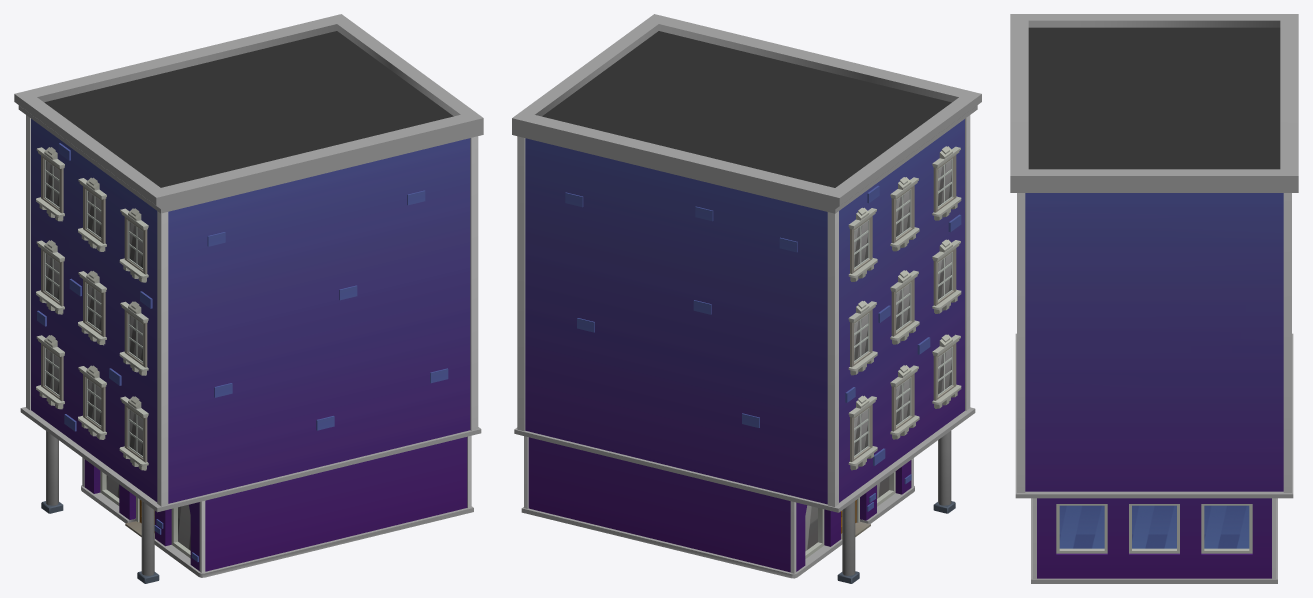
Rendered from Building_4_E.fbx.
3 renders of one model, left to right at view 1: azimuth 30°, elevation 25°; view 2: azimuth 150°, elevation 25°; view 3: azimuth 270°, elevation 25°, orthographic.
Visible parts, largest first — view 1: Building_4_E; view 2: Building_4_E; view 3: Building_4_E.
Boxes of the visible parts, x1,y1,x2,y2 form: Building_4_E: (14,14,483,583); Building_4_E: (512,14,981,583); Building_4_E: (1010,14,1298,583).
Size of the model in its own units: 1585 by 1855 by 1191.
